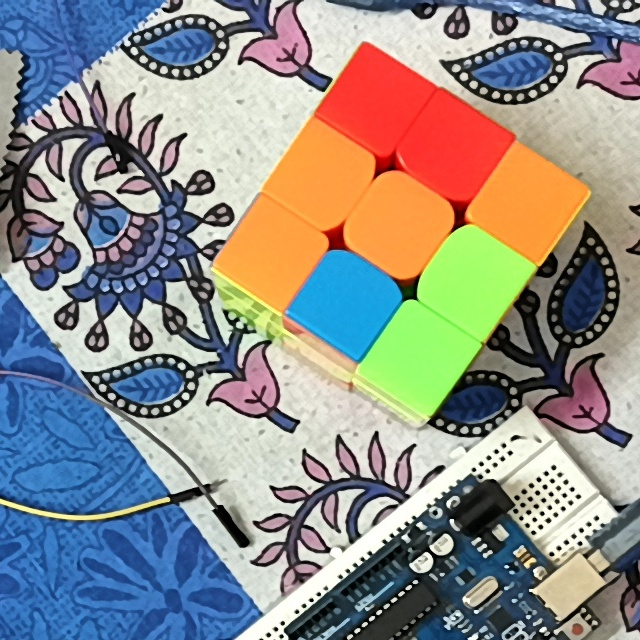tile: (359, 193, 433, 257), (385, 326, 452, 388), (499, 168, 560, 236), (316, 270, 381, 329), (286, 148, 354, 204), (422, 118, 484, 179), (444, 245, 503, 309), (243, 222, 303, 281), (344, 77, 404, 128)
